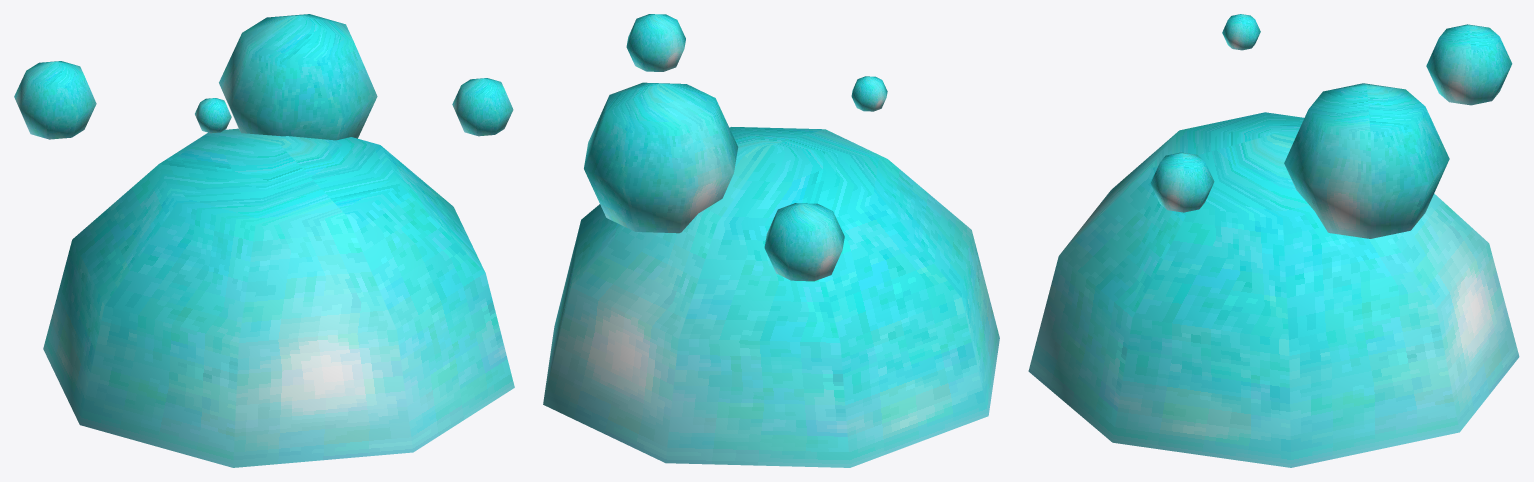
The model's file is INST_MIRK_BUBBLES.obj.
3 renders of one model, left to right at view 1: azimuth 30°, elevation 25°; view 2: azimuth 150°, elevation 25°; view 3: azimuth 270°, elevation 25°, orthographic. The views are drawn at different scales.
Parts seen in each view (by area): view 1: Bubbles__AI; view 2: Bubbles__AI; view 3: Bubbles__AI.
Boxes of the visible parts, bbox=[...] form: Bubbles__AI: bbox=[14, 14, 514, 467]; Bubbles__AI: bbox=[543, 14, 999, 467]; Bubbles__AI: bbox=[1028, 14, 1519, 467].
Size of the model in its own units: 115 by 80.51 by 115.
